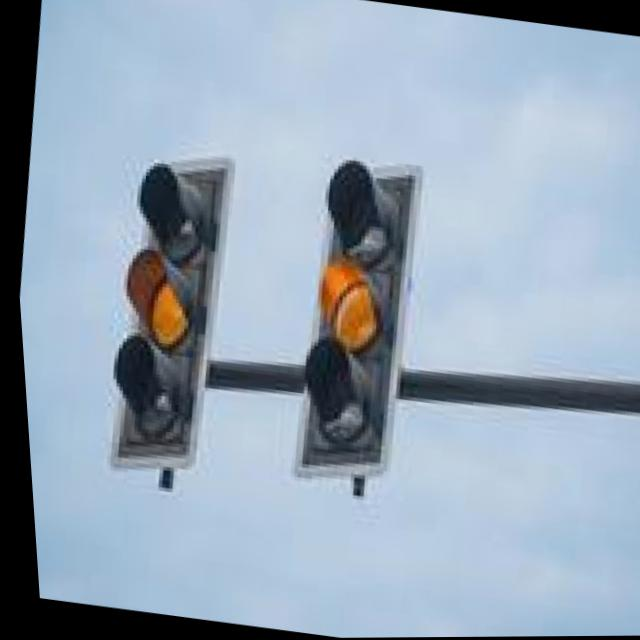yellow_light: (86, 235, 275, 351), (259, 240, 428, 369)
